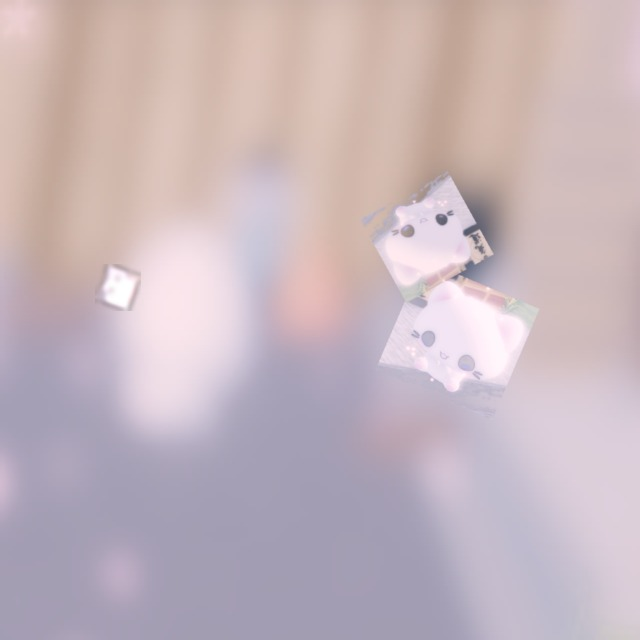urso_branco: (375, 259, 540, 420), (360, 171, 494, 303), (95, 264, 141, 311)
